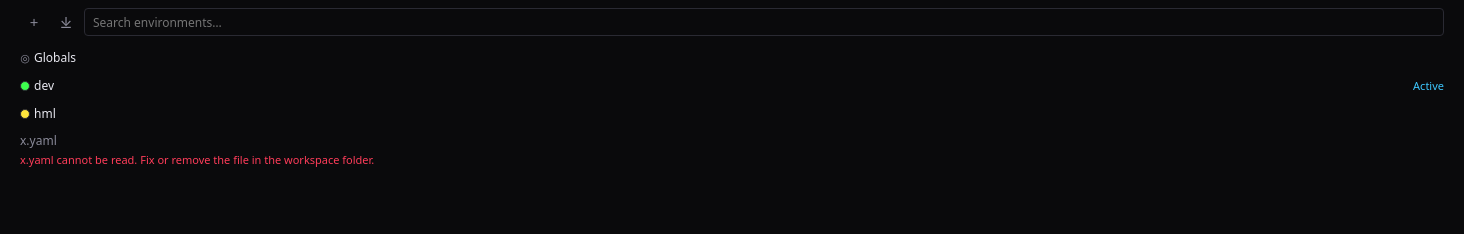
Test case: EnvironmentsView › shows a failed duplicate in a dismissable banner
Right-click the button with aria-label "dev, active" at (1429, 85), box [12,72,1452,100]
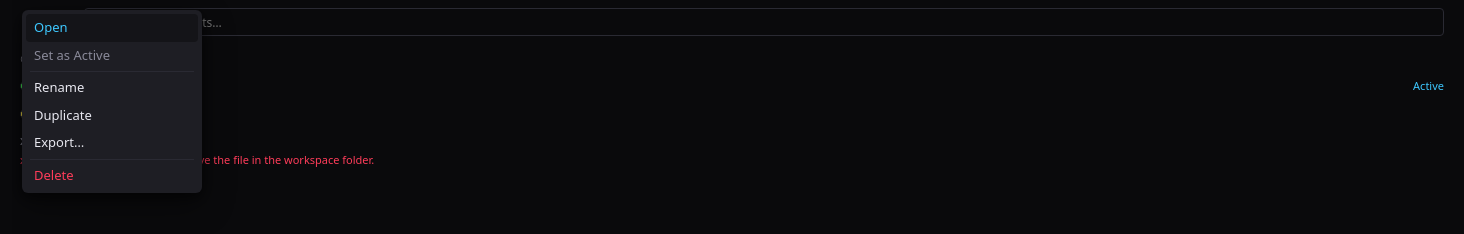
Click the menu item "Duplicate" at (112, 115), box [26,102,198,129]
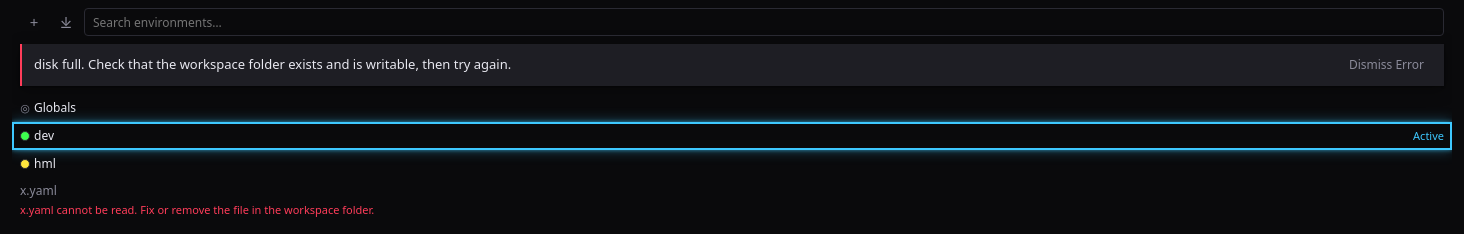
Now the text "disk full" is shown, box [34,55,511,73]
Click the button "Dismiss Error" at (1386, 65), box [1341,52,1432,78]
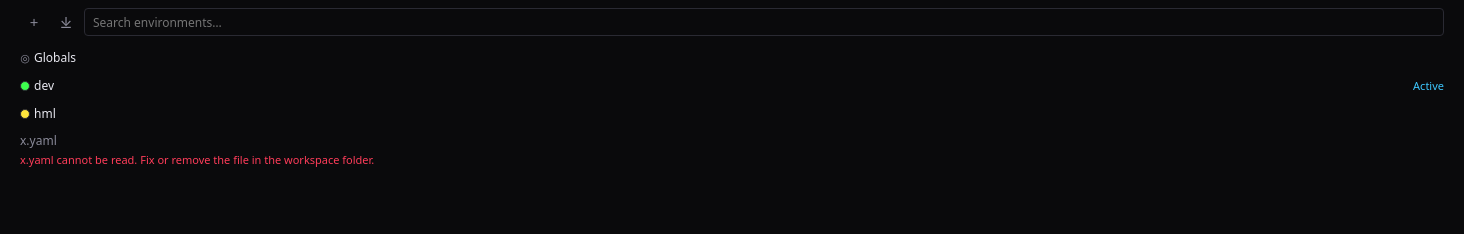
Now the text "disk full" is gone
